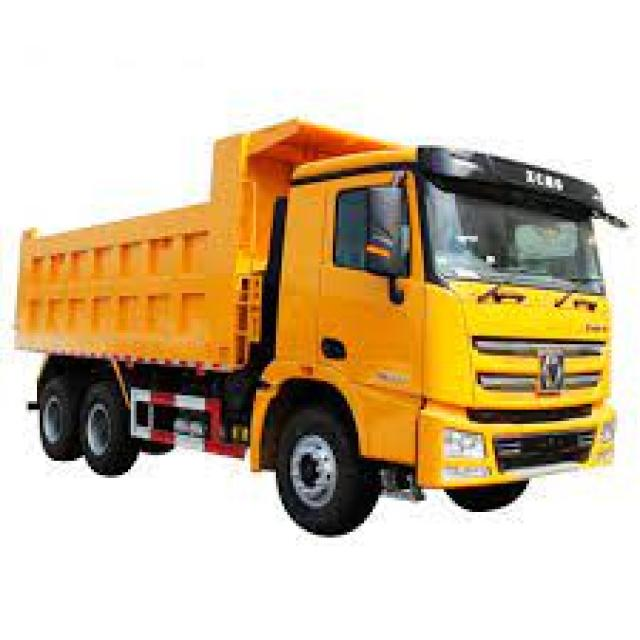dump_truck: (12, 126, 626, 543)
